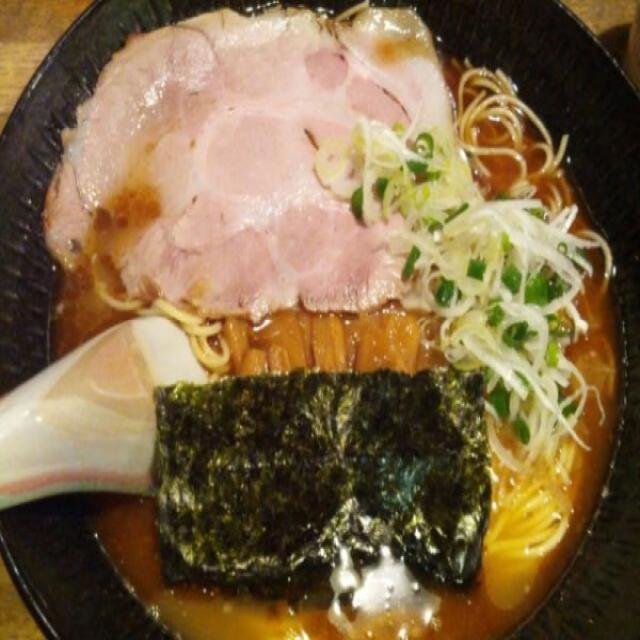面条主食: (1, 2, 640, 637)
